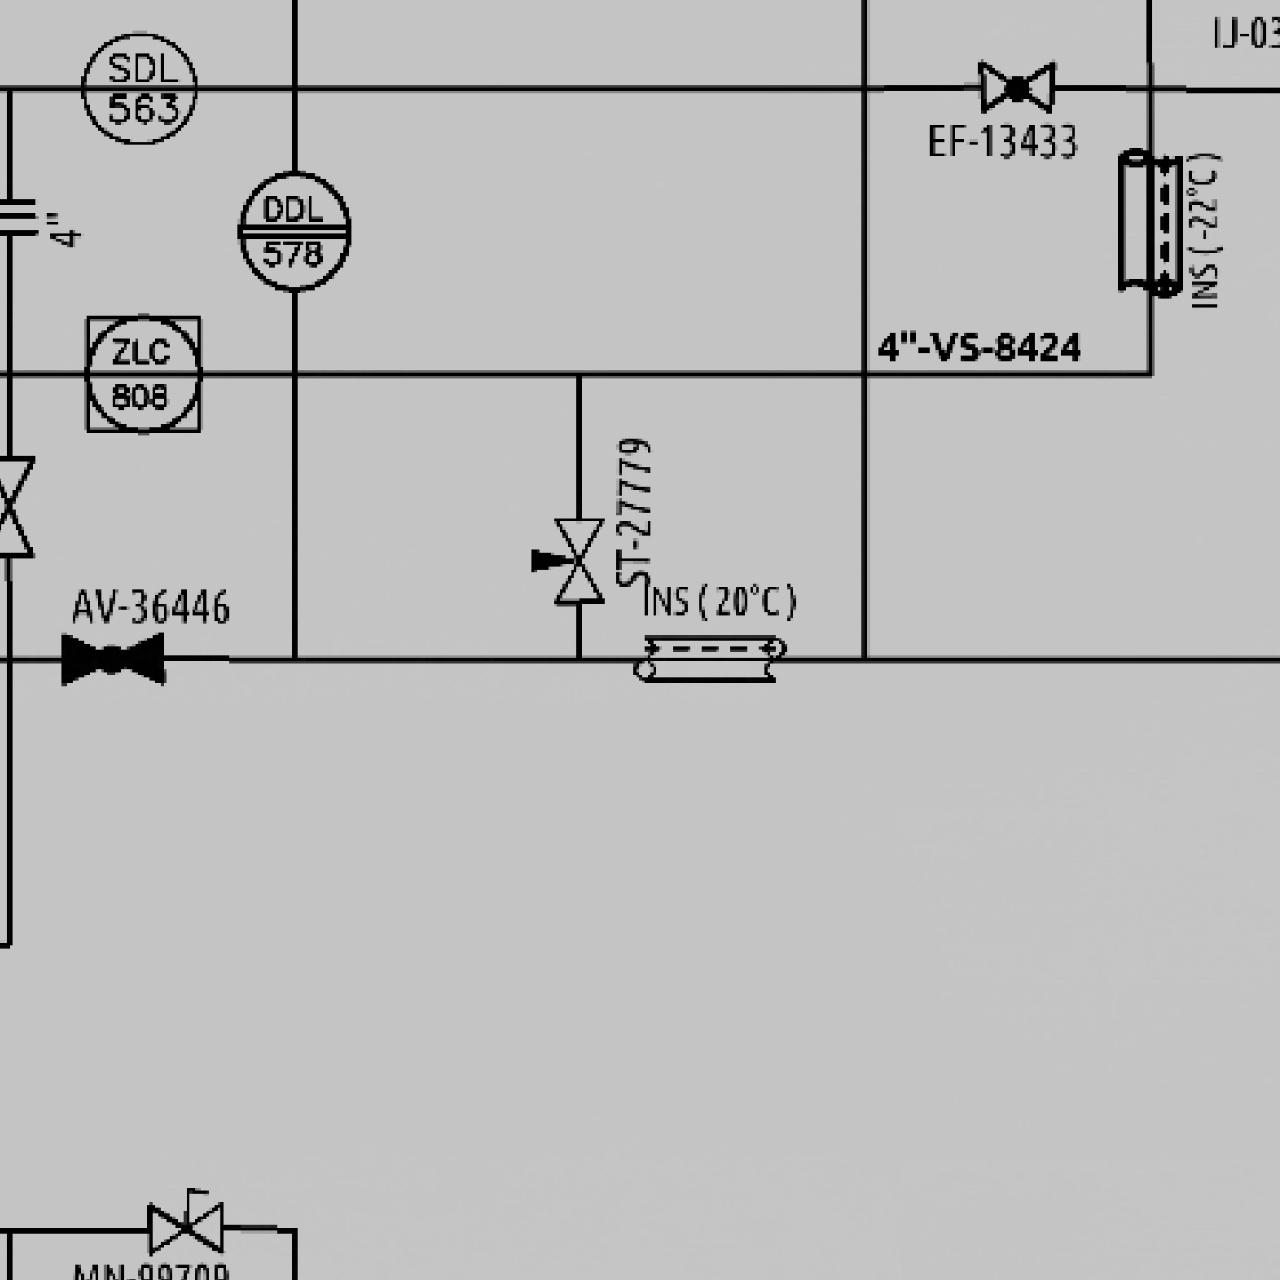Control-Panel: (226, 166, 354, 295)
